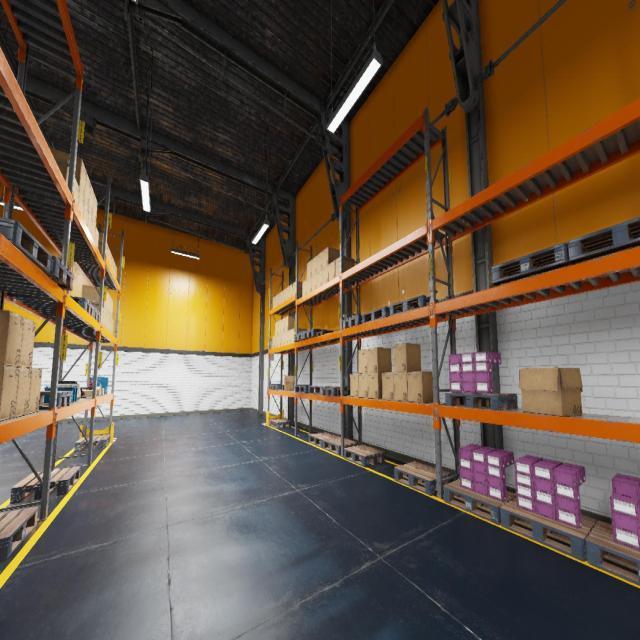box: (518, 367, 583, 416), (49, 147, 86, 198), (0, 309, 24, 366), (0, 365, 19, 421), (14, 367, 31, 418), (393, 343, 421, 372), (407, 372, 433, 403), (20, 317, 36, 367), (27, 368, 42, 414), (82, 285, 107, 311), (368, 347, 392, 373), (53, 156, 69, 184), (393, 372, 408, 401), (336, 255, 354, 277), (322, 246, 340, 268), (368, 373, 382, 399), (382, 372, 394, 400), (358, 349, 368, 373), (359, 373, 368, 398), (84, 172, 90, 208), (350, 373, 359, 397), (292, 328, 306, 343), (285, 316, 298, 331), (89, 183, 94, 218), (87, 384, 101, 396), (78, 189, 84, 217), (283, 376, 295, 390), (292, 281, 302, 296), (74, 178, 79, 206), (83, 200, 88, 226), (93, 194, 97, 226), (87, 210, 92, 234), (329, 260, 335, 280), (322, 265, 328, 284), (91, 218, 96, 240), (98, 232, 103, 254), (317, 251, 322, 272), (317, 269, 322, 287), (106, 292, 110, 314), (90, 301, 98, 311), (108, 296, 112, 316), (312, 256, 316, 276), (81, 390, 92, 397), (307, 260, 311, 279), (312, 272, 316, 290), (307, 276, 311, 293), (302, 280, 306, 296), (95, 227, 98, 248), (103, 308, 106, 328), (288, 329, 292, 344), (110, 299, 113, 318), (284, 331, 288, 345), (101, 307, 104, 325), (107, 314, 110, 332), (274, 335, 278, 348), (105, 312, 108, 329), (109, 317, 112, 334), (278, 292, 282, 304), (107, 246, 110, 261), (289, 283, 292, 298), (109, 252, 112, 266), (111, 256, 114, 270), (281, 332, 284, 346), (281, 318, 284, 332), (278, 320, 281, 334), (275, 321, 278, 335), (285, 286, 288, 300), (282, 289, 285, 303), (272, 336, 275, 348), (106, 242, 108, 258), (112, 319, 114, 335), (115, 265, 117, 278), (278, 334, 280, 346), (276, 294, 278, 306), (273, 296, 275, 308), (101, 388, 104, 394), (114, 261, 115, 274)
pallets: (500, 497, 597, 561), (491, 242, 575, 285), (585, 521, 640, 585), (567, 217, 640, 264), (443, 478, 516, 524), (0, 216, 51, 273), (10, 466, 80, 504), (0, 506, 38, 561), (394, 462, 451, 496), (445, 392, 517, 410), (389, 295, 438, 316), (45, 256, 74, 290), (344, 444, 384, 467), (74, 434, 111, 451), (323, 436, 357, 454), (39, 391, 72, 409), (362, 306, 389, 324), (70, 296, 94, 316), (309, 432, 339, 447), (342, 315, 370, 329), (303, 328, 334, 339), (321, 386, 350, 396), (308, 386, 339, 394), (270, 418, 291, 428), (295, 385, 320, 393), (93, 307, 100, 323), (293, 332, 305, 341), (270, 385, 284, 390)
